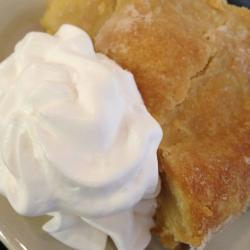apple_pie: (60, 8, 250, 242)
chantilly: (1, 27, 167, 248)
